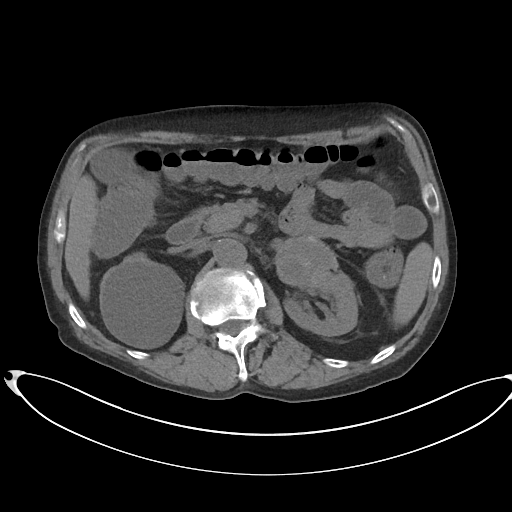Lesion: (272, 235, 339, 286)
